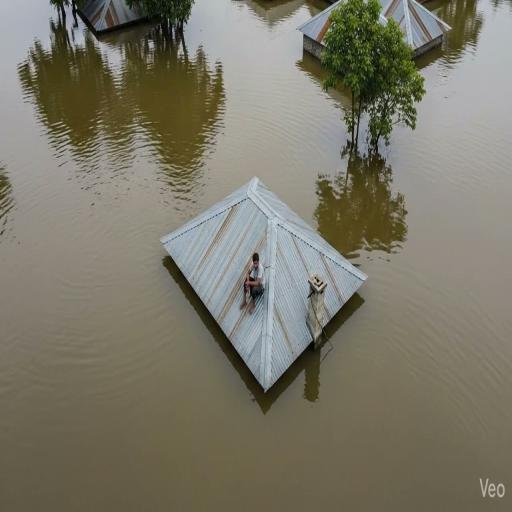human: (236, 240, 269, 320)
